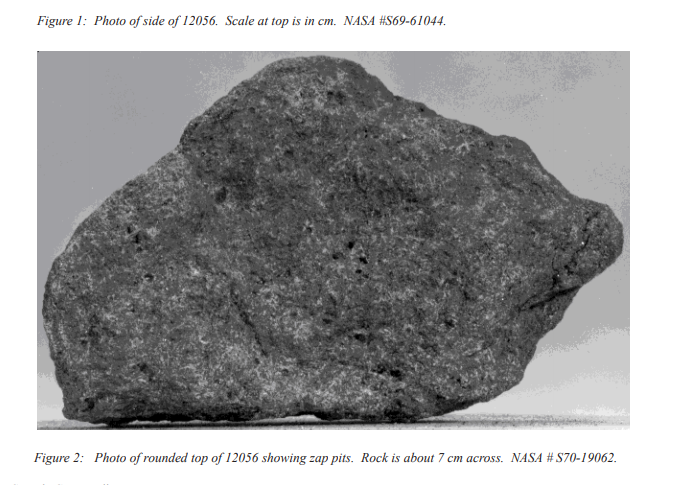Basalt: (36, 51, 629, 430), (173, 154, 495, 343)
